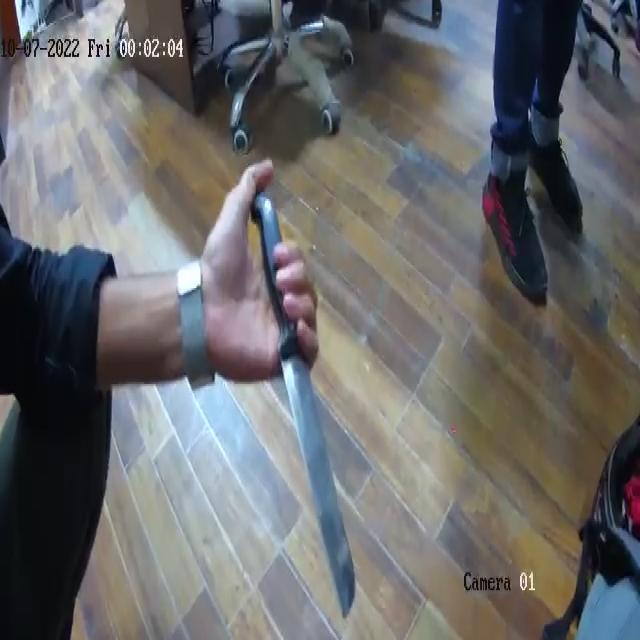Knife: (245, 151, 362, 628)
